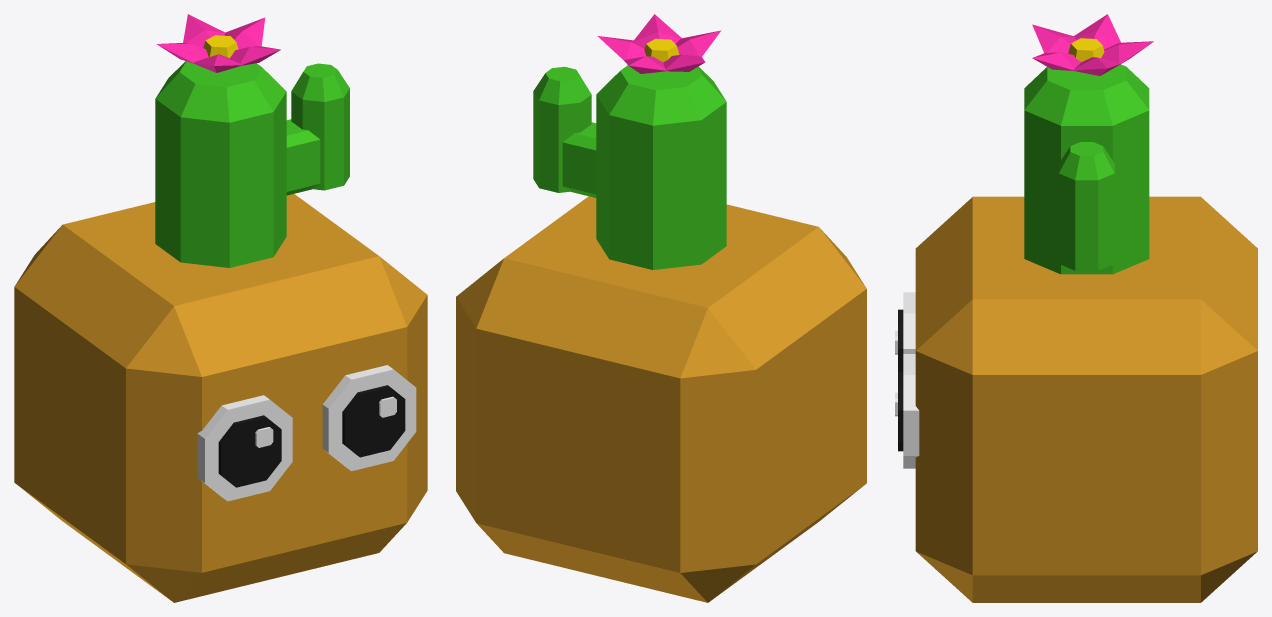
Rendered from Spike.fbx.
3 views of the same model, side by side, from view 1: azimuth 30°, elevation 25°; view 2: azimuth 150°, elevation 25°; view 3: azimuth 270°, elevation 25° (orthographic). The views are drawn at different scales.
Parts seen in each view (by area): view 1: Spike, Spike_Cactus, Spike_Eyes, Spike_Pupils, Spike_Flower, Spike_FlowerCentre; view 2: Spike, Spike_Cactus, Spike_Flower, Spike_FlowerCentre; view 3: Spike, Spike_Cactus, Spike_Flower, Spike_Eyes, Spike_Pupils, Spike_FlowerCentre.
Part boxes in pixels (<box>): Spike: <box>14,194,427,602</box>; Spike_Cactus: <box>155,61,349,267</box>; Spike_Eyes: <box>197,365,416,501</box>; Spike_Pupils: <box>218,385,405,487</box>; Spike_Flower: <box>156,14,280,72</box>; Spike_FlowerCentre: <box>203,35,238,58</box>; Spike: <box>456,196,866,602</box>; Spike_Cactus: <box>533,65,726,269</box>; Spike_Flower: <box>597,14,721,73</box>; Spike_FlowerCentre: <box>644,38,679,71</box>; Spike: <box>915,196,1257,602</box>; Spike_Cactus: <box>1024,64,1149,274</box>; Spike_Flower: <box>1032,14,1153,75</box>; Spike_Eyes: <box>895,292,919,468</box>; Spike_Pupils: <box>898,309,903,451</box>; Spike_FlowerCentre: <box>1068,38,1104,61</box>.
Size of the model in its own units: 2 by 3.16 by 2.04.
